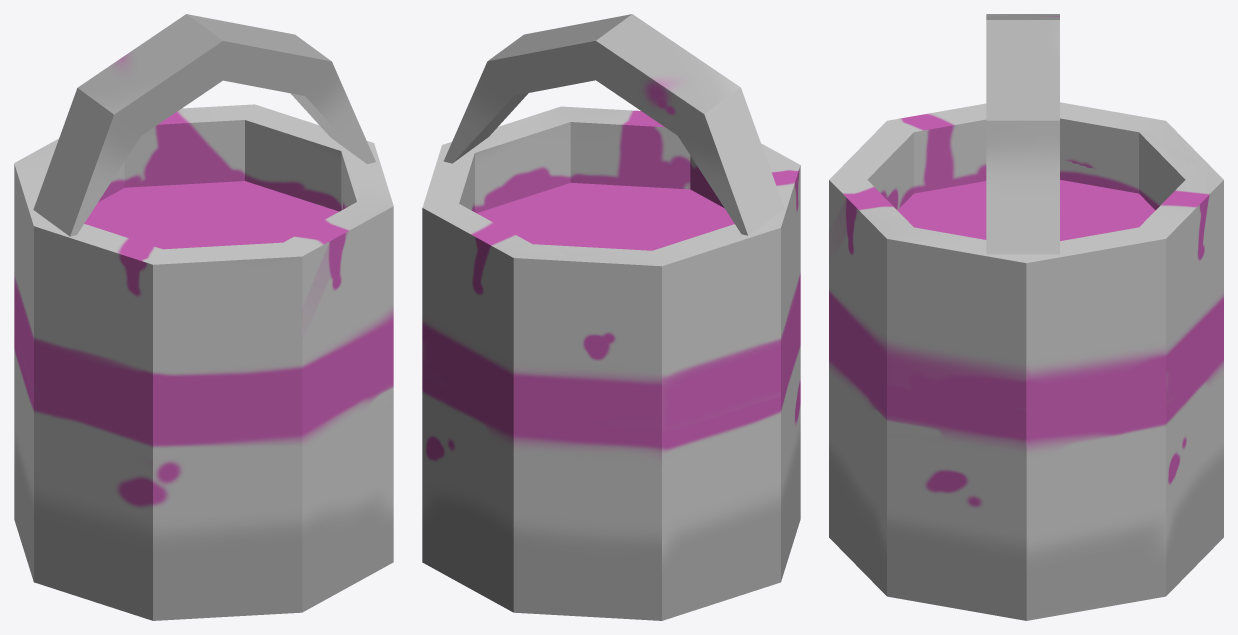
The model's file is Ink Bucket.fbx.
The picture shows the model from 3 angles, left to right: view 1: azimuth 30°, elevation 25°; view 2: azimuth 150°, elevation 25°; view 3: azimuth 270°, elevation 25°; orthographic projection.
Parts seen in each view (by area): view 1: Cylinder.001; view 2: Cylinder.001; view 3: Cylinder.001.
Boxes of the visible parts, bbox=[...] form: Cylinder.001: bbox=[14, 14, 393, 620]; Cylinder.001: bbox=[422, 14, 800, 620]; Cylinder.001: bbox=[829, 14, 1223, 620].
Size of the model in its own units: 124 by 180 by 124.
